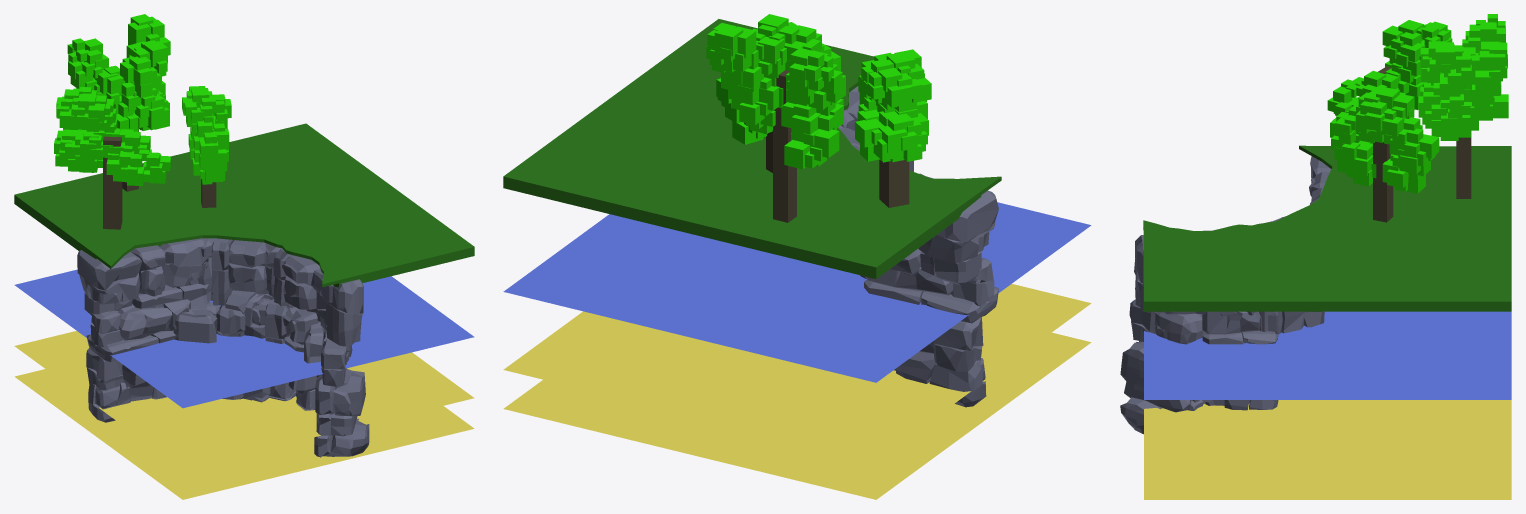
Rendered from 62__tile.fbx.
3 renders of one model, left to right at view 1: azimuth 30°, elevation 25°; view 2: azimuth 150°, elevation 25°; view 3: azimuth 270°, elevation 25°, orthographic. The views are drawn at different scales.
Visible parts, largest first — view 1: 62__tile; view 2: 62__tile; view 3: 62__tile.
Boxes of the visible parts, <box> form: 62__tile: <box>14,14,474,499</box>; 62__tile: <box>503,14,1091,499</box>; 62__tile: <box>1120,14,1511,499</box>.
Size of the model in its own units: 205 by 218 by 213.
